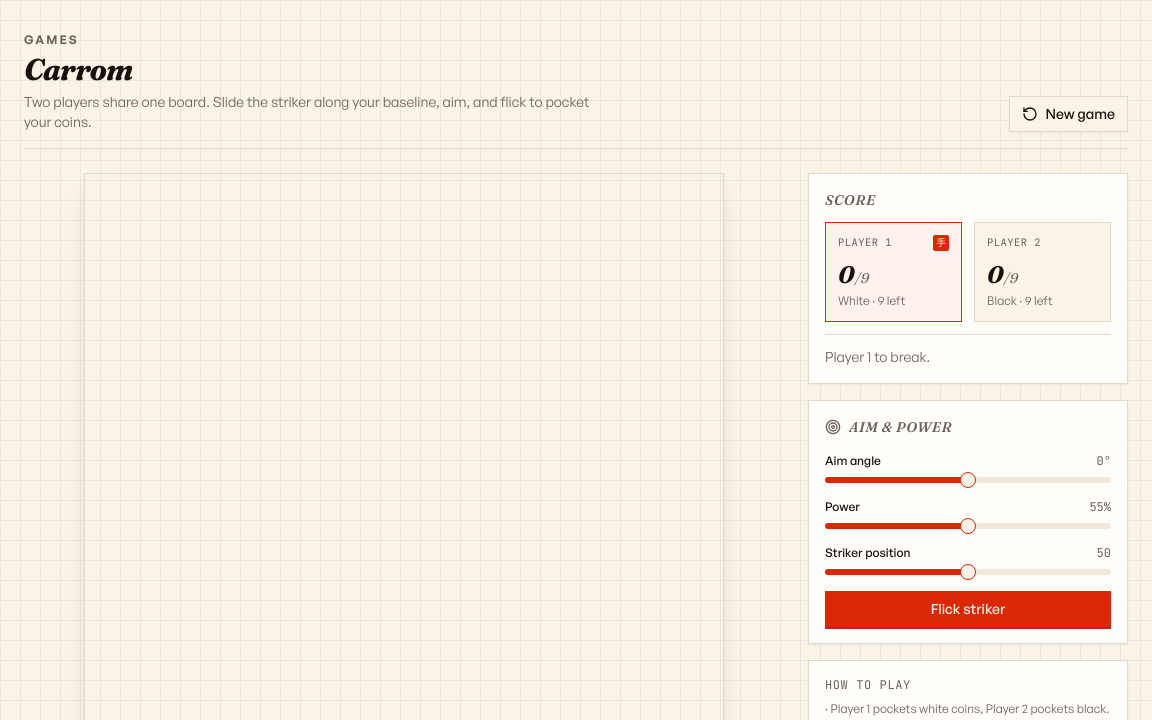
Test: CarromPage › resets the board with the New game control
The width and height of the screenshot is (1152, 720).
Click the button "Flick striker" at (968, 609), box [825,591,1111,627]
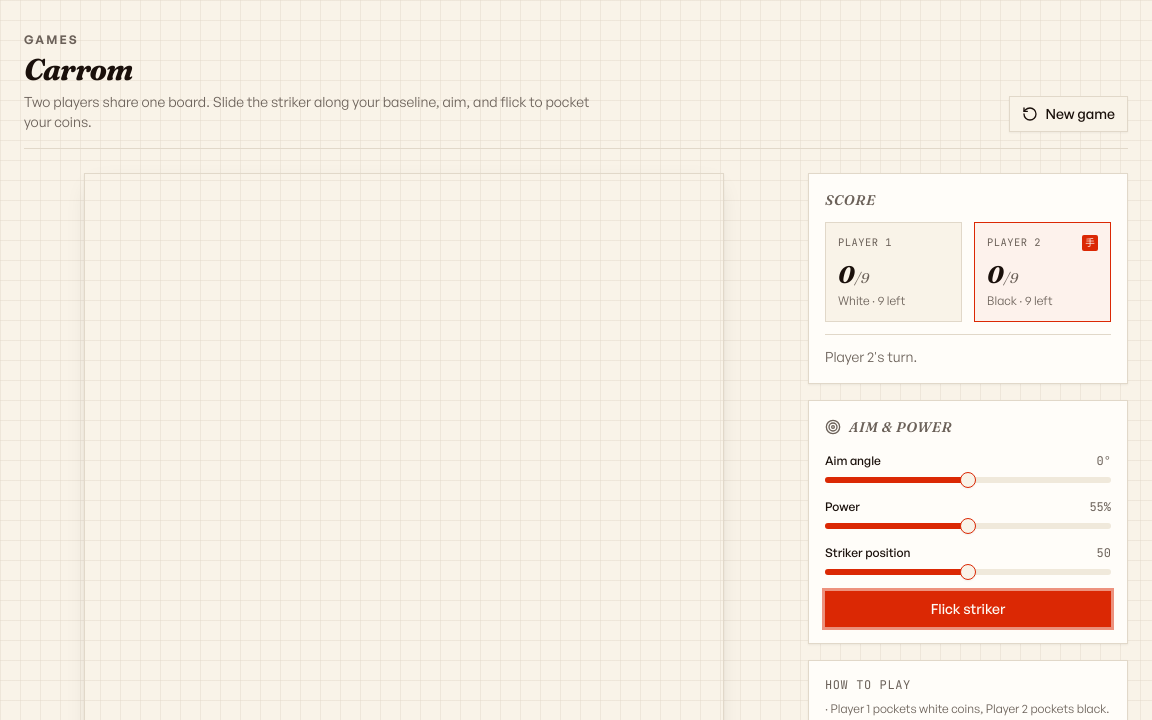
Expected: the text "Player 2's turn." is shown, [825,334,1111,367]
Click the button "New game" at (1068, 114), box [1009,96,1128,132]
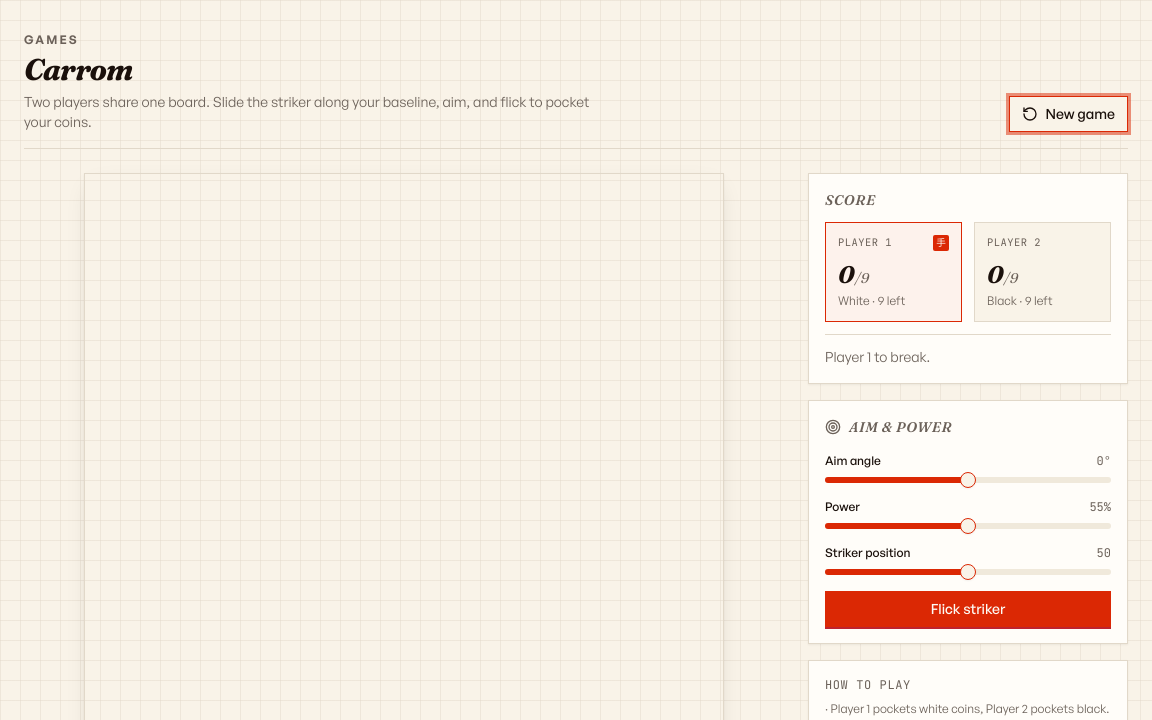
Expected: the text "Player 1 to break." is shown, [825,334,1111,367]
